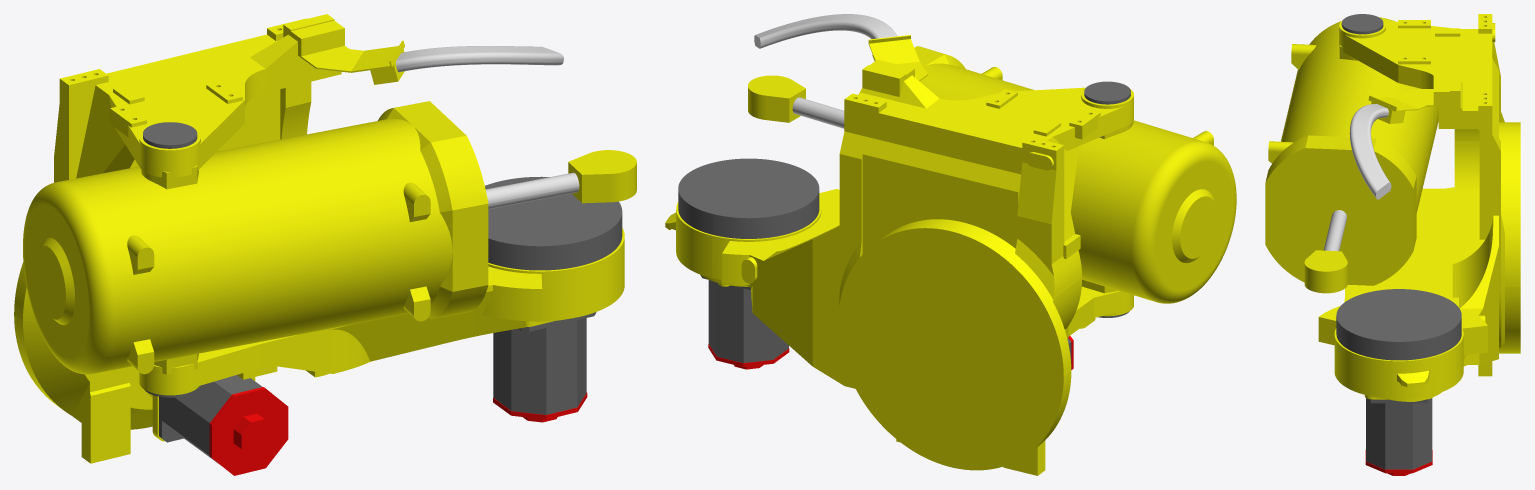
3 views of the same model, side by side, from view 1: azimuth 30°, elevation 25°; view 2: azimuth 150°, elevation 25°; view 3: azimuth 270°, elevation 25° (orthographic). The views are drawn at different scales.
Visible parts, largest first — view 1: Mesh_0; view 2: Mesh_0; view 3: Mesh_0.
Boxes of the visible parts, left/top/right/bottom form: Mesh_0: left=14, top=14, right=636, bottom=475; Mesh_0: left=665, top=14, right=1236, bottom=475; Mesh_0: left=1265, top=14, right=1520, bottom=475.
Size of the model in its own units: 1.36 by 0.9004 by 0.6617.
